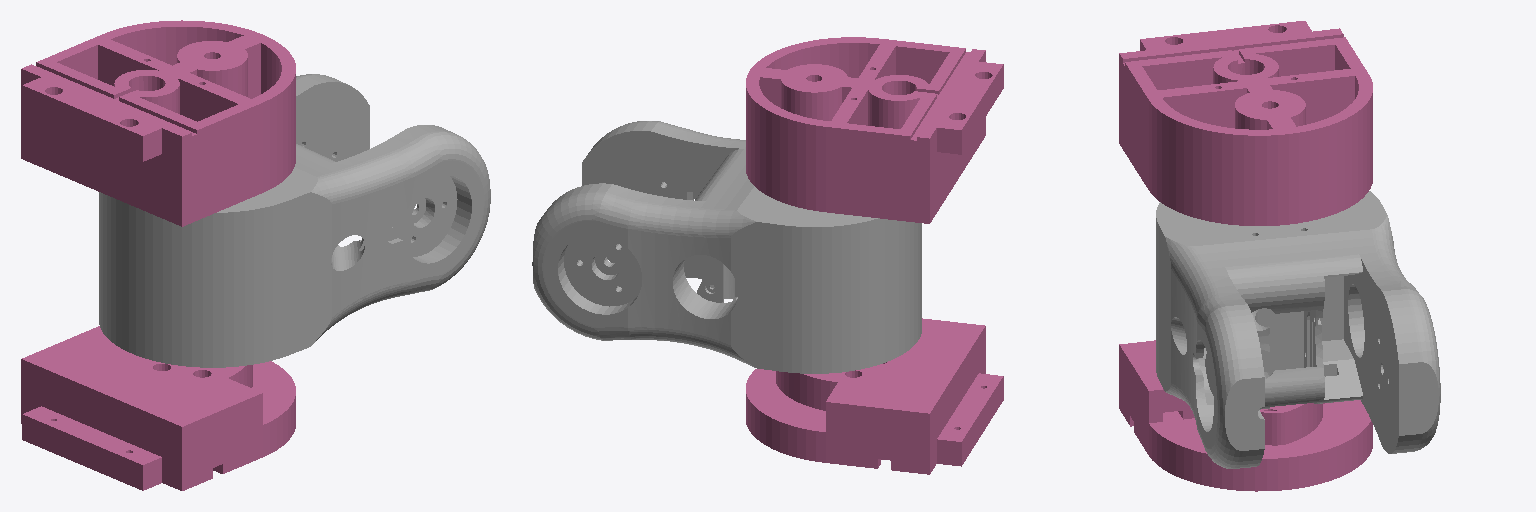
The robot description file, URDF, robot "tr1":
<robot name="tr1">

	<link name="base_link">
		<visual>
			<geometry>
        <mesh filename="package://tr1_description/meshes/dae/base.dae" scale="0.001 0.001 0.001"/>
			</geometry>
			<origin rpy="0 0 3.141592" />
		</visual>
	</link>

	<link name="wheel1_link">
		<visual>
			<geometry>
        <mesh filename="package://tr1_description/meshes/dae/wheel.dae" scale="0.001 0.001 0.001"/>
			</geometry>
			<origin rpy="1.5708 0 0" />
		</visual>
	</link>

	<link name="wheel2_link">
		<visual>
			<geometry>
        <mesh filename="package://tr1_description/meshes/dae/wheel.dae" scale="0.001 0.001 0.001"/>
			</geometry>
			<origin rpy="1.5708 0 0" />
		</visual>
	</link>

	<link name="wheel3_link">
		<visual>
			<geometry>
        <mesh filename="package://tr1_description/meshes/dae/wheel.dae" scale="0.001 0.001 0.001"/>
			</geometry>
			<origin rpy="1.5708 0 0" />
		</visual>
	</link>

	<link name="wheel4_link">
		<visual>
			<geometry>
        <mesh filename="package://tr1_description/meshes/dae/wheel.dae" scale="0.001 0.001 0.001"/>
			</geometry>
			<origin rpy="1.5708 0 0" />
		</visual>
	</link>

	<link name="body_link">
		<visual>
			<geometry>
        <mesh filename="package://tr1_description/meshes/dae/body.dae" scale="0.001 0.001 0.001"/>
			</geometry>
			<origin rpy="0 0 3.141592"/>
		</visual>
	</link>

	<link name="arm1_link">
		<visual>
			<geometry>
        <mesh filename="package://tr1_description/meshes/dae/arm1.dae" scale="0.001 0.001 0.001"/>
			</geometry>
			<origin rpy="1.5708 0 0" />
		</visual>
	</link>

	<link name="arm2_link">
		<visual>
			<geometry>
        <mesh filename="package://tr1_description/meshes/dae/arm2.dae" scale="0.001 0.001 0.001"/>
			</geometry>
			<origin rpy="1.5708 0 0" />
		</visual>
	</link>

	<joint name="base_to_body" type="prismatic">
		<parent link="base_link"/>
		<child link="body_link"/>
    <axis xyz="0 0 1"/>
		<limit effort="1000.0" lower="0" upper="0.300" velocity="0.0001"/>
		<origin xyz="0 0 0.7955"/>
	</joint>

	<joint name="base_to_wheel1" type="continuous">
		<parent link="base_link"/>
		<child link="wheel1_link"/>
    <axis xyz="0 1 0"/>
		<origin rpy="0 0 0.785398" xyz="-0.293310 0.417810 -0.0725"/>
	</joint>

	<joint name="base_to_wheel2" type="continuous">
		<parent link="base_link"/>
		<child link="wheel2_link"/>
    <axis xyz="0 1 0"/>
		<origin rpy="0 0 -0.785398" xyz="0.293310 0.417810 -0.0725"/>
	</joint>

	<joint name="base_to_wheel3" type="continuous">
		<parent link="base_link"/>
		<child link="wheel3_link"/>
    <axis xyz="0 1 0"/>
		<origin rpy="0 0 -2.35619449019" xyz="0.293310 -0.168810 -0.0725"/>
	</joint>

	<joint name="base_to_wheel4" type="continuous">
		<parent link="base_link"/>
		<child link="wheel4_link"/>
    <axis xyz="0 1 0"/>
		<origin rpy="0 0 2.356194490191" xyz="-0.293310 -0.168810 -0.0725"/>
	</joint>

	<joint name="body_to_arm1" type="fixed">
		<parent link="body_link"/>
		<child link="arm1_link"/>
		<origin rpy="0 0 0.261799" xyz="0.184864 0.034420 0.20575"/>
	</joint>

	<joint name="arm1_to_arm2" type="revolute">
		<parent link="arm1_link"/>
		<child link="arm2_link"/>
		<origin xyz="0 0 -0.007"/>
    <axis xyz="0 0 1"/>
		<limit effort="1.0" lower="-1" upper="1.5708" velocity="0.5"/>
	</joint>

</robot>

--- Facts derived from the render (not from the file) ---
Views: 3 orthographic renders of the robot side by side, from view 1: azimuth 30°, elevation 25°; view 2: azimuth 150°, elevation 25°; view 3: azimuth 270°, elevation 25°.
Model tr1 with 8 links and 7 joints (1 revolute, 4 continuous, 1 prismatic, 1 fixed), rooted at base_link, posed every joint at zero.
Links seen in each view (by area): view 1: arm1_link, arm2_link; view 2: arm2_link, arm1_link; view 3: arm1_link, arm2_link.
Boxes of the visible links, x1,y1,x2,y2 form: arm1_link: [21, 20, 295, 490]; arm2_link: [99, 74, 490, 367]; arm2_link: [532, 121, 921, 373]; arm1_link: [746, 37, 1003, 474]; arm1_link: [1119, 21, 1372, 491]; arm2_link: [1156, 191, 1440, 468].
Size in the robot's own frame: 0.3473 by 0.2252 by 0.275 metres.
2 mesh visuals loaded from 5 distinct referenced files (2 Collada DAE); not drawn: 5 (reference not matched to a file when rendering), 1 (file found but could not be loaded).